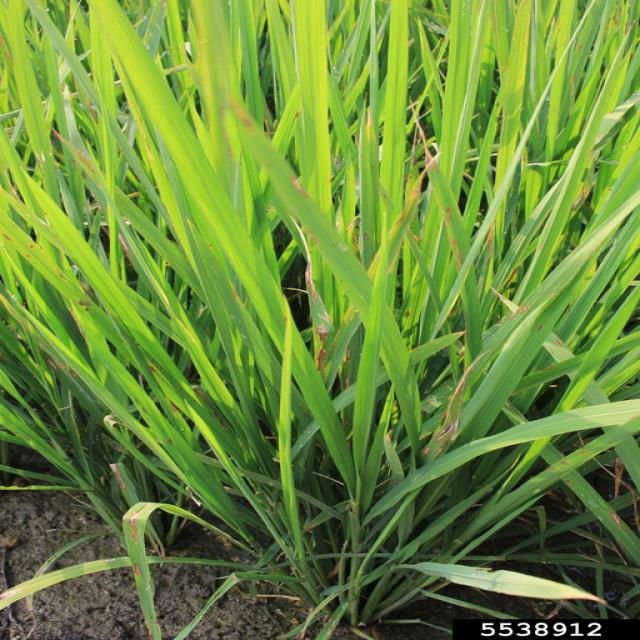Bacterial leaf blight: (9, 31, 276, 370), (312, 95, 604, 302), (0, 478, 405, 622), (432, 406, 640, 640)
